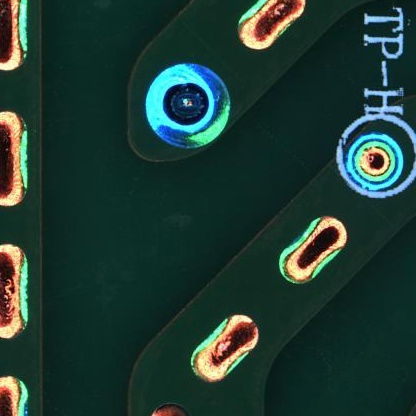spot: (145, 62, 232, 152), (346, 133, 406, 190)
